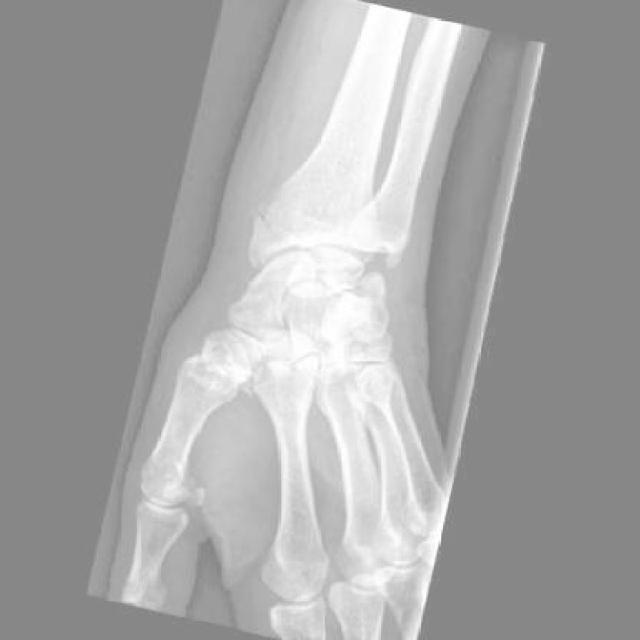Fracture: (234, 189, 331, 286), (341, 272, 397, 323)
